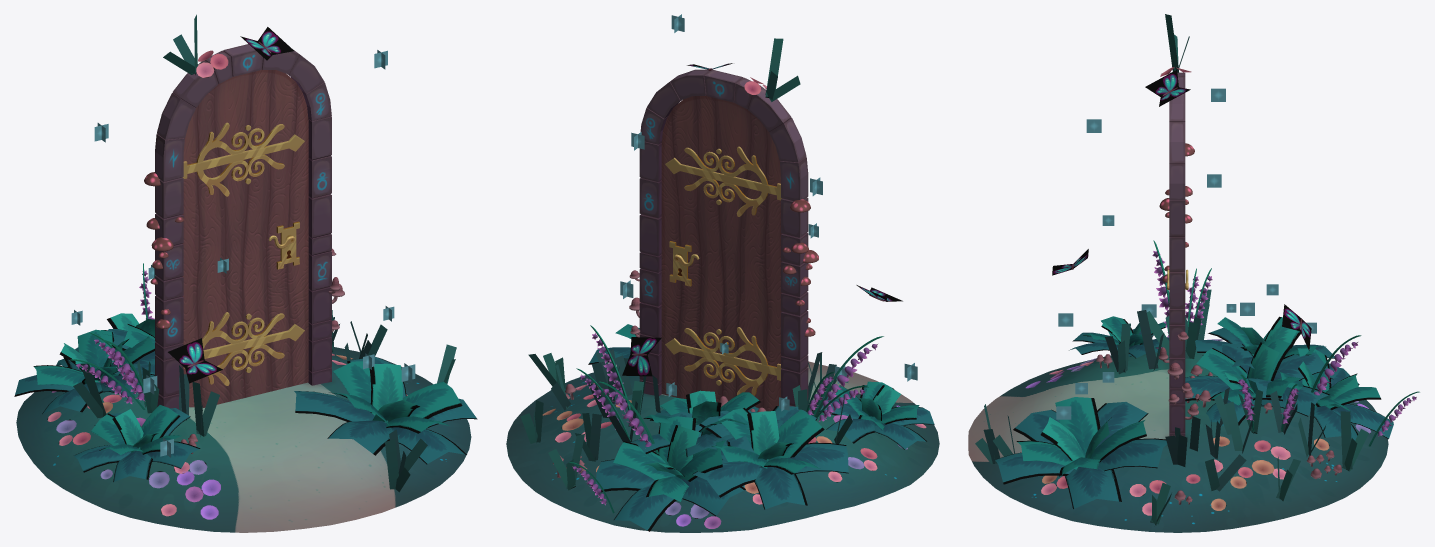
File: final-kapı.fbx
The picture shows the model from 3 angles, left to right: view 1: azimuth 30°, elevation 25°; view 2: azimuth 150°, elevation 25°; view 3: azimuth 270°, elevation 25°; orthographic projection. The views are drawn at different scales.
Visible parts, largest first — view 1: iç kapı, çevre, zemin, kapı çerçeve; view 2: çevre, iç kapı, zemin, kapı çerçeve; view 3: çevre, zemin, kapı çerçeve.
Part boxes in pixels (x1,y1,x2,y2): iç kapı: (182, 69, 308, 407); çevre: (14, 14, 477, 519); zemin: (16, 347, 471, 532); kapı çerçeve: (155, 44, 331, 409); çevre: (520, 14, 934, 531); iç kapı: (661, 95, 781, 411); zemin: (506, 361, 939, 532); kapı çerçeve: (639, 69, 808, 406); çevre: (975, 14, 1419, 525); zemin: (968, 348, 1388, 532); kapı çerçeve: (1169, 72, 1185, 436).
Size of the model in its own units: 50.08 by 51.67 by 52.22.
3 materials, 3 textured.
